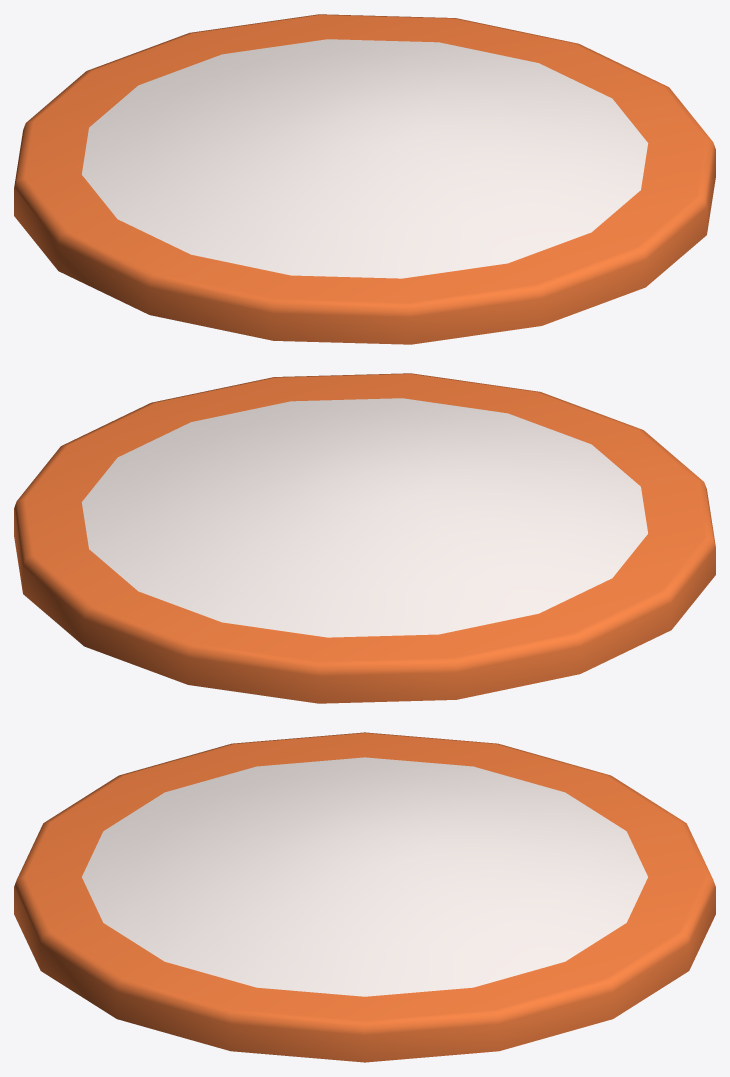
File: pizza2.FBX
3 views of the same model, one above another, from view 1: azimuth 30°, elevation 25°; view 2: azimuth 150°, elevation 25°; view 3: azimuth 270°, elevation 25° (orthographic).
Parts seen in each view (by area): view 1: Object251; view 2: Object251; view 3: Object251.
Boxes of the visible parts, x1=… form: Object251: x1=14, y1=14, x2=715, y2=344; Object251: x1=14, y1=373, x2=715, y2=703; Object251: x1=14, y1=732, x2=715, y2=1062.
Size of the model in its own units: 1.9 by 0.2471 by 1.9.
